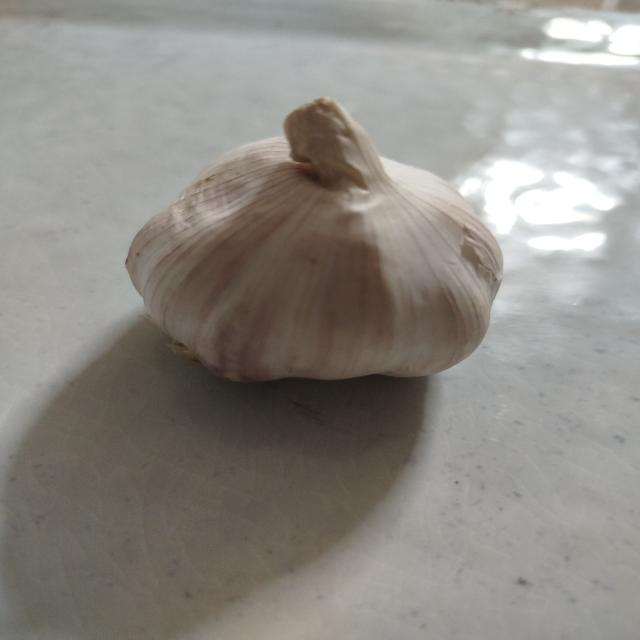garlic: (124, 96, 504, 383)
